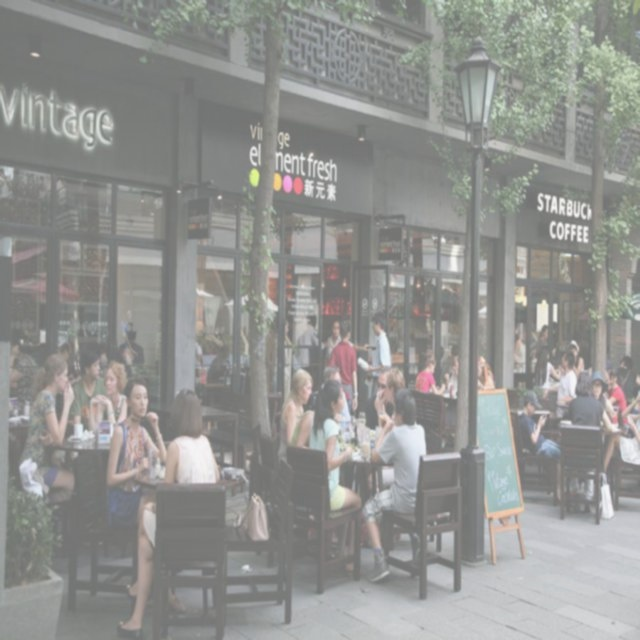pessoa: (114, 386, 222, 639), (104, 374, 188, 614), (362, 386, 430, 585), (307, 376, 368, 580), (16, 352, 76, 490), (566, 369, 613, 513), (517, 386, 569, 509), (276, 367, 314, 466), (68, 347, 110, 432), (86, 359, 130, 438), (602, 386, 640, 477), (327, 318, 359, 418), (328, 319, 359, 417), (590, 369, 618, 474), (272, 306, 321, 365), (320, 364, 356, 441), (541, 348, 578, 419), (363, 310, 392, 400), (362, 364, 396, 431), (192, 333, 231, 391), (601, 367, 630, 437), (376, 368, 408, 431), (5, 323, 36, 387), (442, 354, 460, 453), (612, 355, 640, 415), (116, 318, 144, 376), (414, 348, 446, 397), (290, 389, 317, 447), (533, 344, 562, 389), (512, 328, 534, 378), (566, 338, 584, 380), (478, 352, 497, 390), (532, 322, 556, 344)
